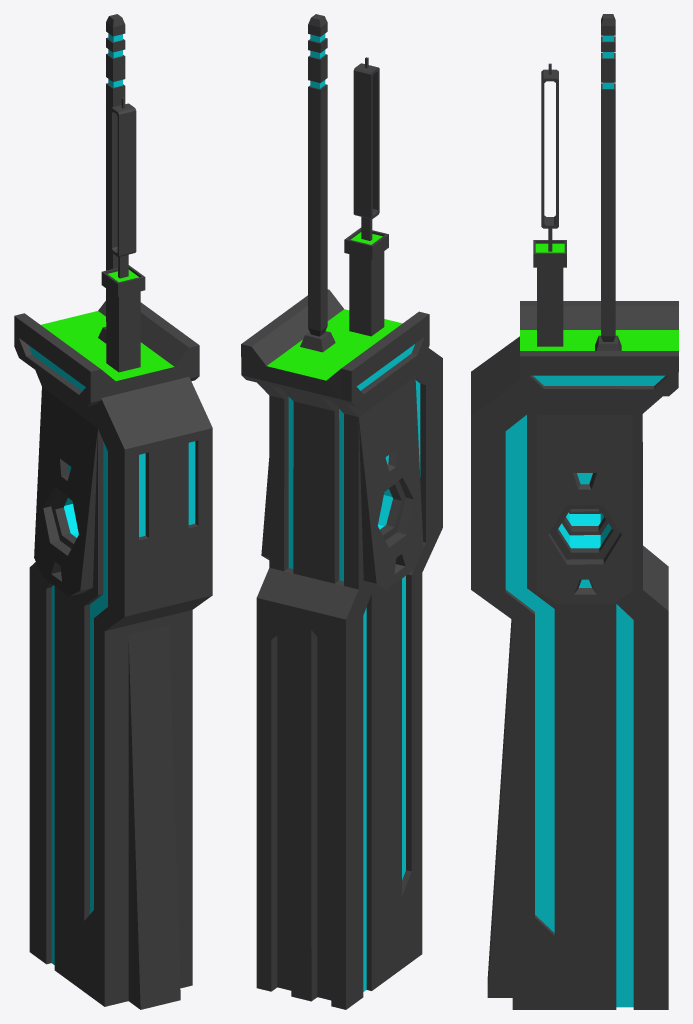
Rendered from Deco Tower.fbx.
3 renders of one model, left to right at view 1: azimuth 30°, elevation 25°; view 2: azimuth 150°, elevation 25°; view 3: azimuth 270°, elevation 25°, orthographic. The views are drawn at different scales.
Visible parts, largest first — view 1: Deco Tower; view 2: Deco Tower; view 3: Deco Tower.
Boxes of the visible parts, bbox=[...] form: Deco Tower: bbox=[14, 14, 212, 1009]; Deco Tower: bbox=[241, 14, 442, 1009]; Deco Tower: bbox=[471, 14, 678, 1009].
Bounding box in the file's own units: 146 × 1138 × 219.
